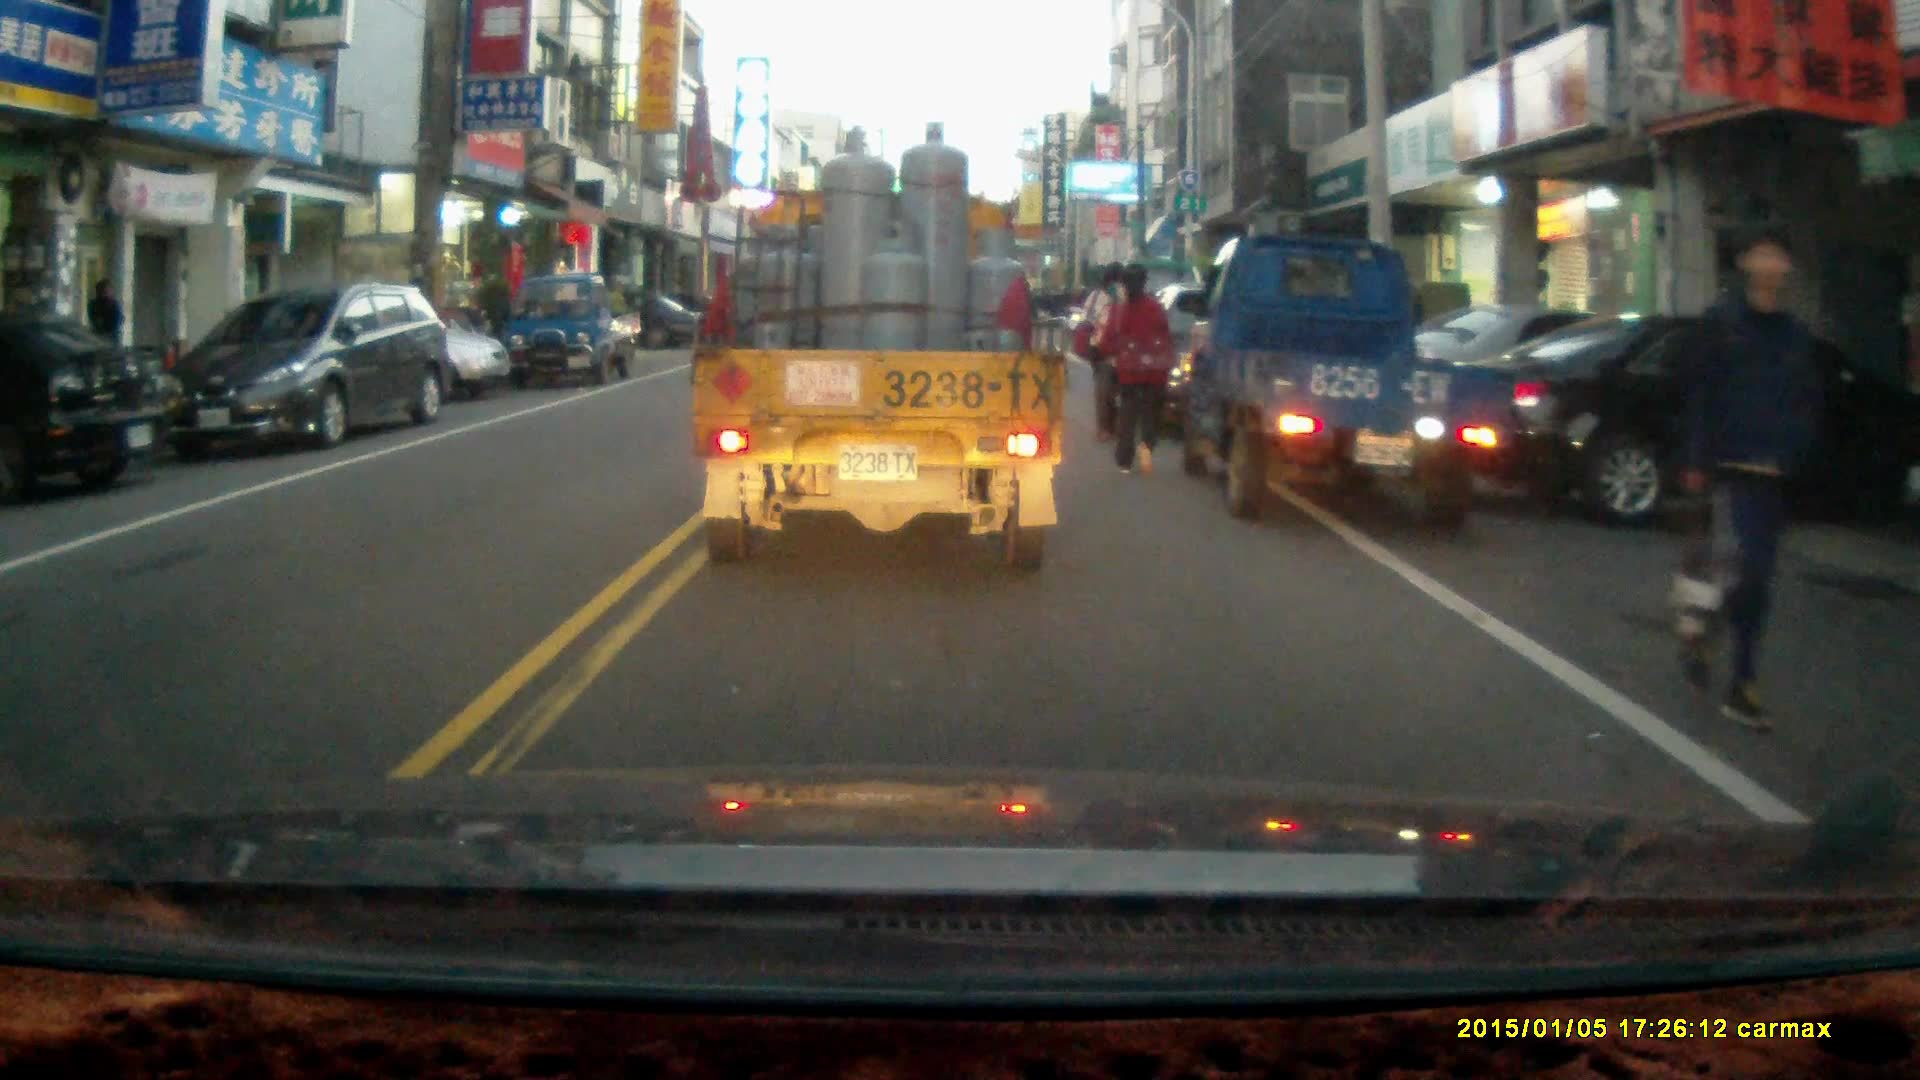pedestrian: (1672, 227, 1832, 735), (1098, 258, 1177, 476), (1078, 259, 1139, 438), (80, 274, 127, 385)
vehicle: (689, 123, 1069, 577), (1179, 234, 1517, 532), (155, 281, 456, 458), (1, 312, 177, 505), (247, 293, 511, 406), (501, 272, 639, 390)
